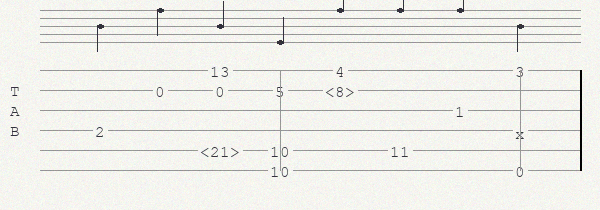0: (155, 83, 169, 97), (215, 83, 229, 97), (515, 163, 529, 177)
1: (455, 103, 469, 117)
10: (270, 163, 294, 177), (270, 143, 294, 157)
11: (390, 143, 414, 157)
13: (210, 63, 234, 77)
2: (95, 123, 109, 137)
3: (515, 63, 529, 77)
4: (335, 63, 349, 77)
5: (275, 83, 289, 97)
harmonic: (200, 143, 244, 158), (325, 83, 359, 98)
x: (515, 125, 529, 136)
